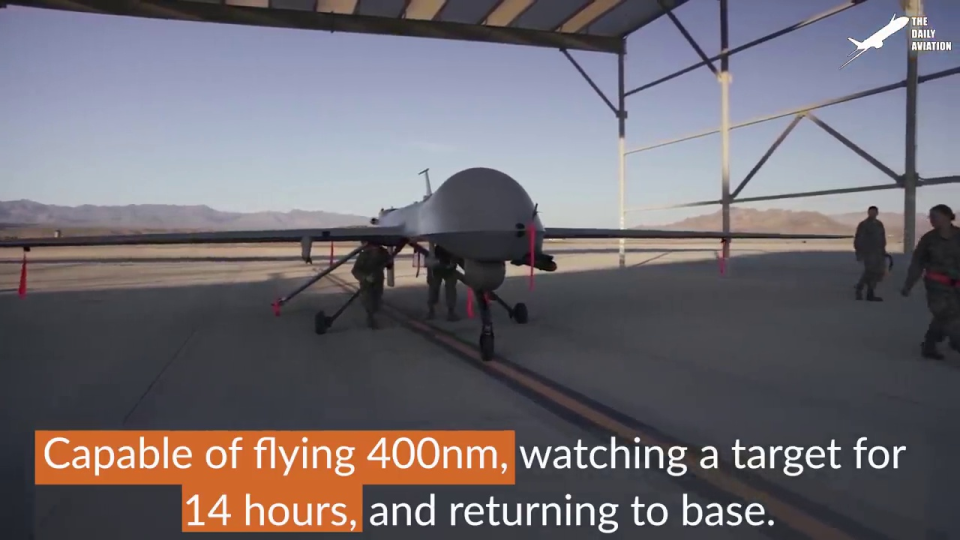military drone: (0, 166, 856, 360)
